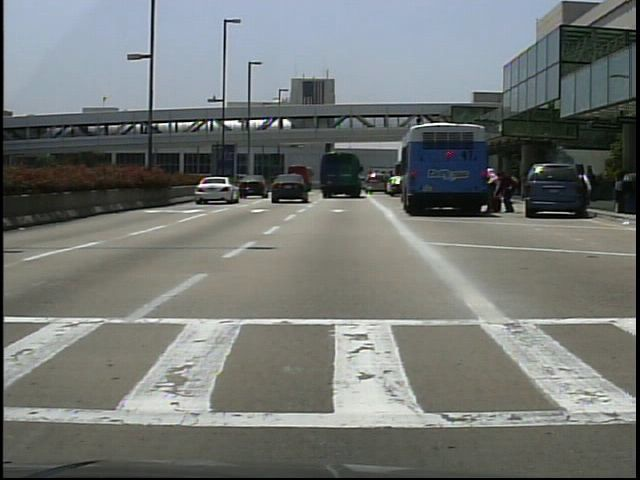person: (481, 164, 499, 216), (501, 163, 519, 213), (582, 168, 597, 211)
